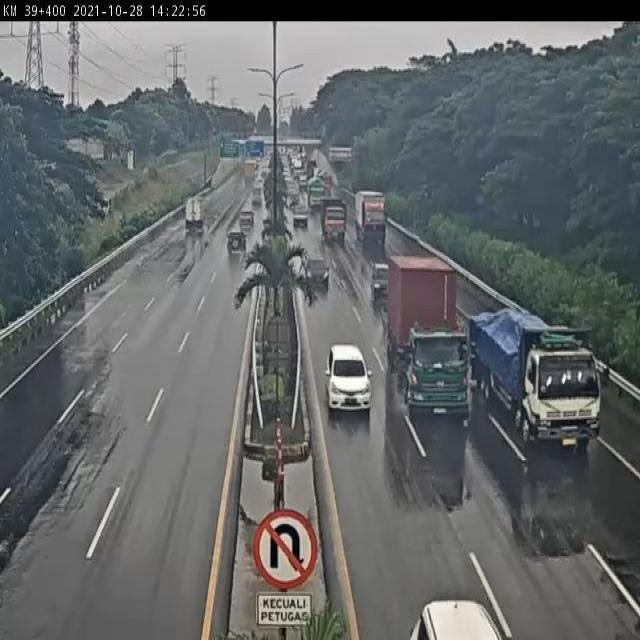truck-l-: (470, 308, 601, 447), (355, 189, 387, 244)
truck-s-: (320, 200, 346, 244)
truck-xl-: (385, 255, 468, 424)
